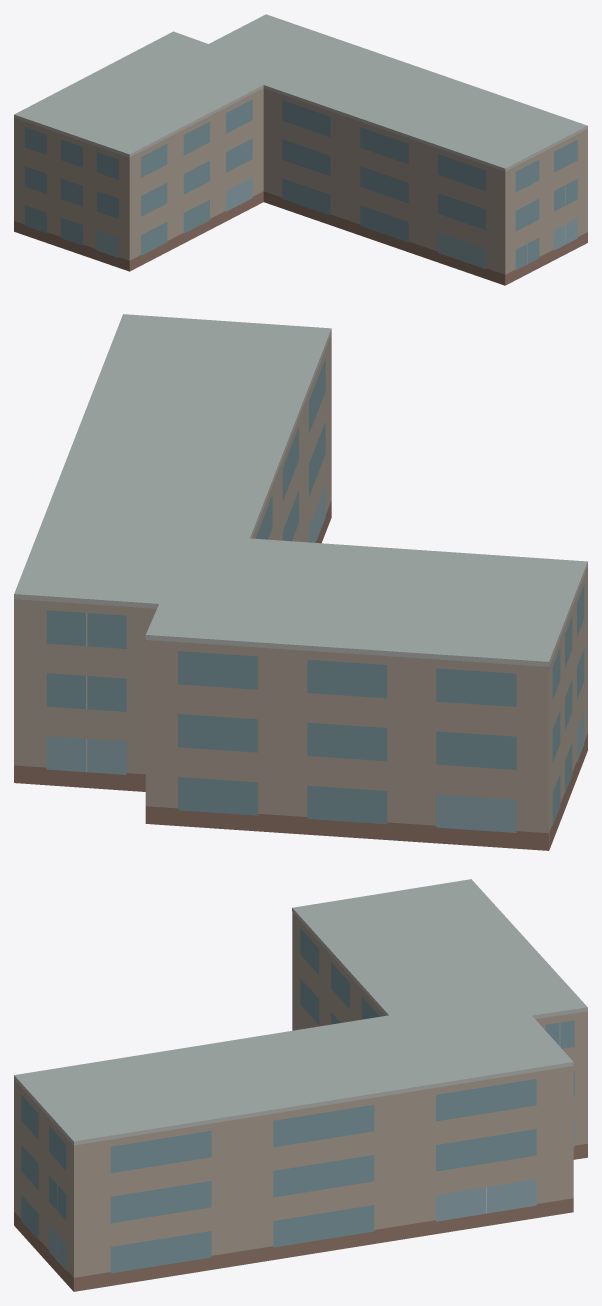
The model's file is survey-upis-32810483.glb.
3 views of the same model, one above another, from view 1: azimuth 30°, elevation 25°; view 2: azimuth 150°, elevation 25°; view 3: azimuth 270°, elevation 25° (orthographic). The views are drawn at different scales.
Visible parts, largest first — view 1: survey-upis-32810483.tmp; view 2: survey-upis-32810483.tmp; view 3: survey-upis-32810483.tmp.
Boxes of the visible parts, x1=… form: survey-upis-32810483.tmp: x1=14, y1=14, x2=587, y2=285; survey-upis-32810483.tmp: x1=14, y1=314, x2=587, y2=850; survey-upis-32810483.tmp: x1=14, y1=879, x2=587, y2=1291.
Size of the model in its own units: 34.26 by 9.15 by 31.66.
